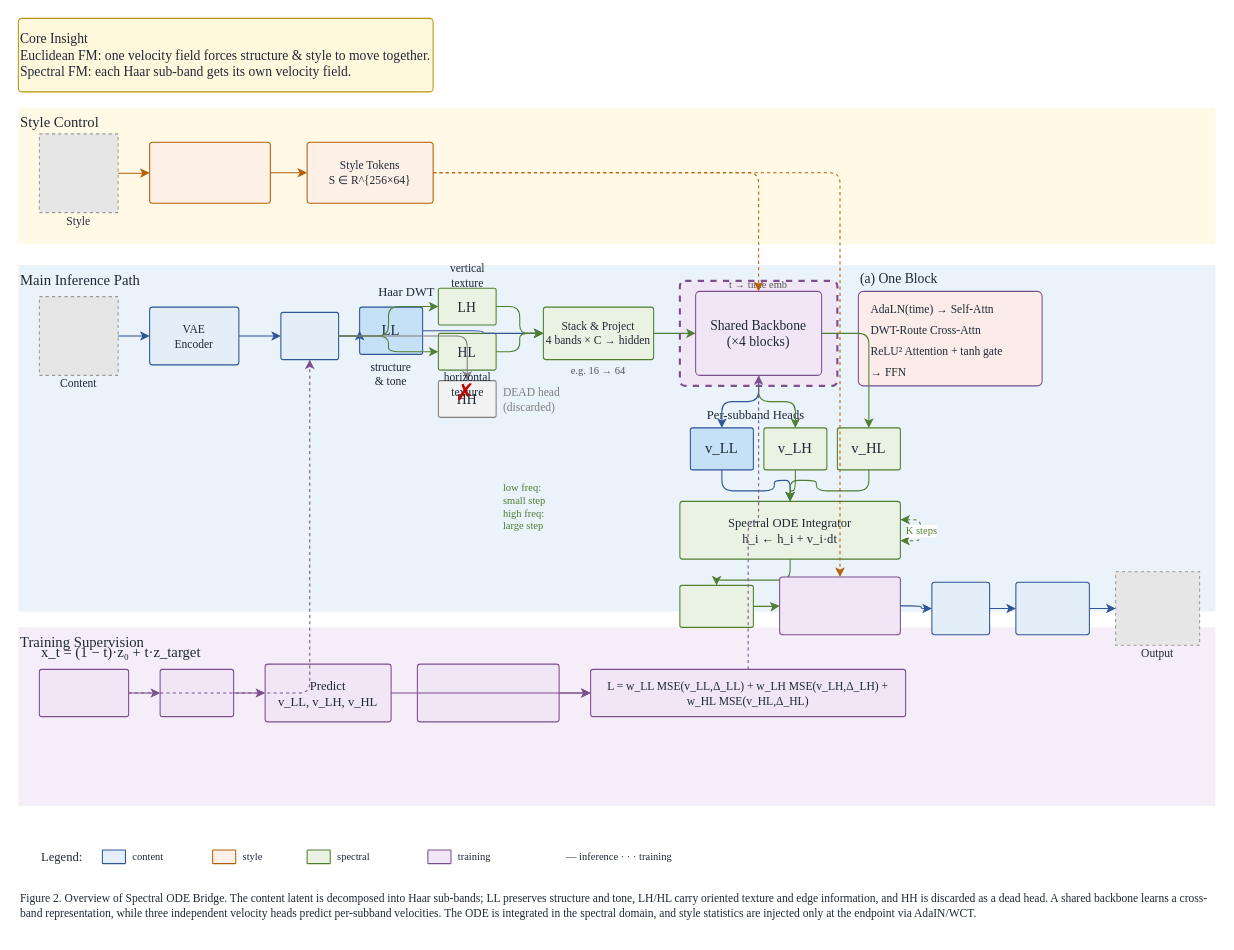
Some shapes in this 1234 by 950 pixel diagram are drawn without their labels. Grey dashed boxes stand in for pictures. Each missing label, with the centre of its shape:
DWT: pixel 196 692
Endpoint AdaIN / WCT: pixel 839 605
iDWT: pixel 716 605
Style Memory (learnable) 5 styles × 256: pixel 209 172
Target Δ_i = DWT(z_t − z₀)_i: pixel 487 692
VAE Decoder: pixel 1052 608
x_t: pixel 83 692
z_T: pixel 960 608
z₀: pixel 309 335
